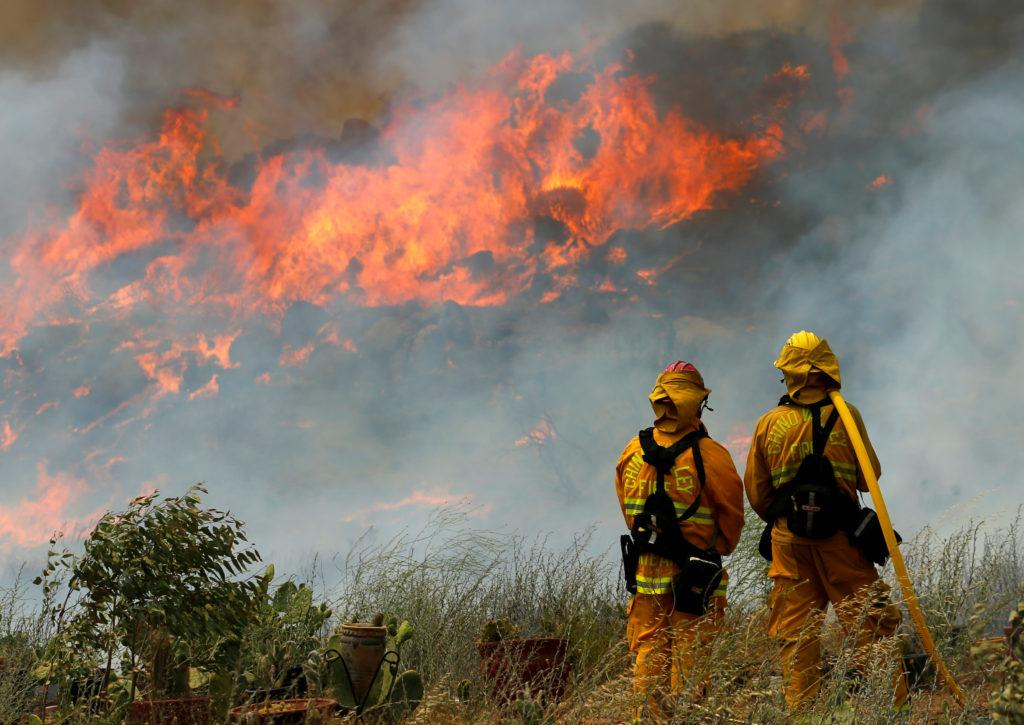Fire: (15, 30, 809, 373)
